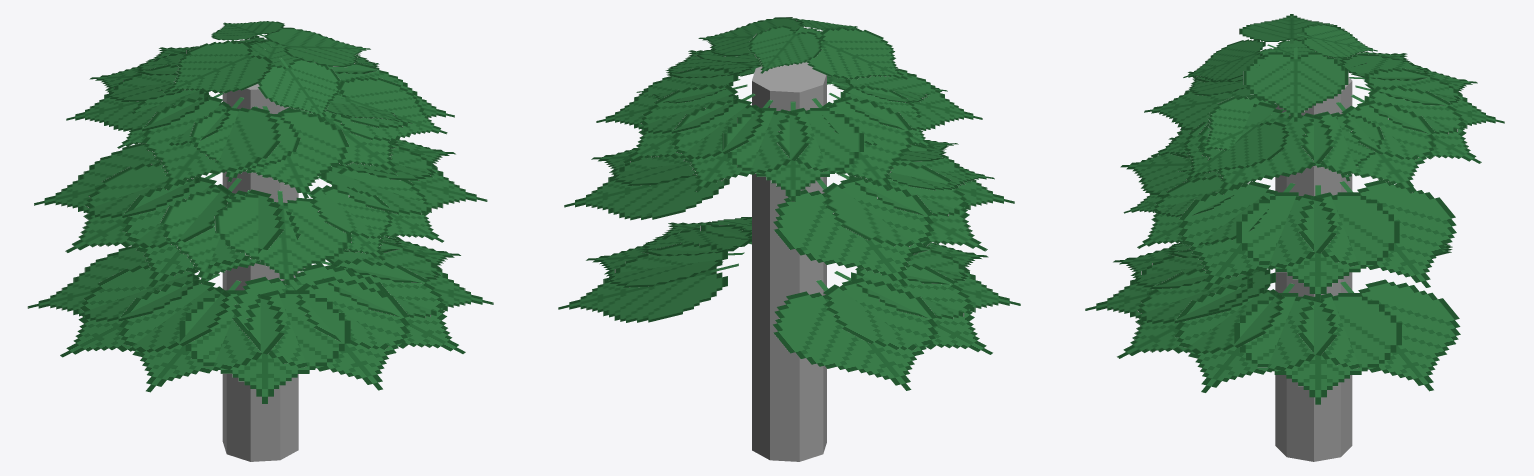
The model's file is bush_unity.fbx.
3 renders of one model, left to right at view 1: azimuth 30°, elevation 25°; view 2: azimuth 150°, elevation 25°; view 3: azimuth 270°, elevation 25°, orthographic.
Parts seen in each view (by area): view 1: Bush_Unity; view 2: Bush_Unity; view 3: Bush_Unity.
Boxes of the visible parts, x1,y1,x2,y2 form: Bush_Unity: (27, 21, 493, 461); Bush_Unity: (558, 17, 1020, 461); Bush_Unity: (1085, 14, 1504, 461).
Size of the model in its own units: 130 by 119 by 119.
